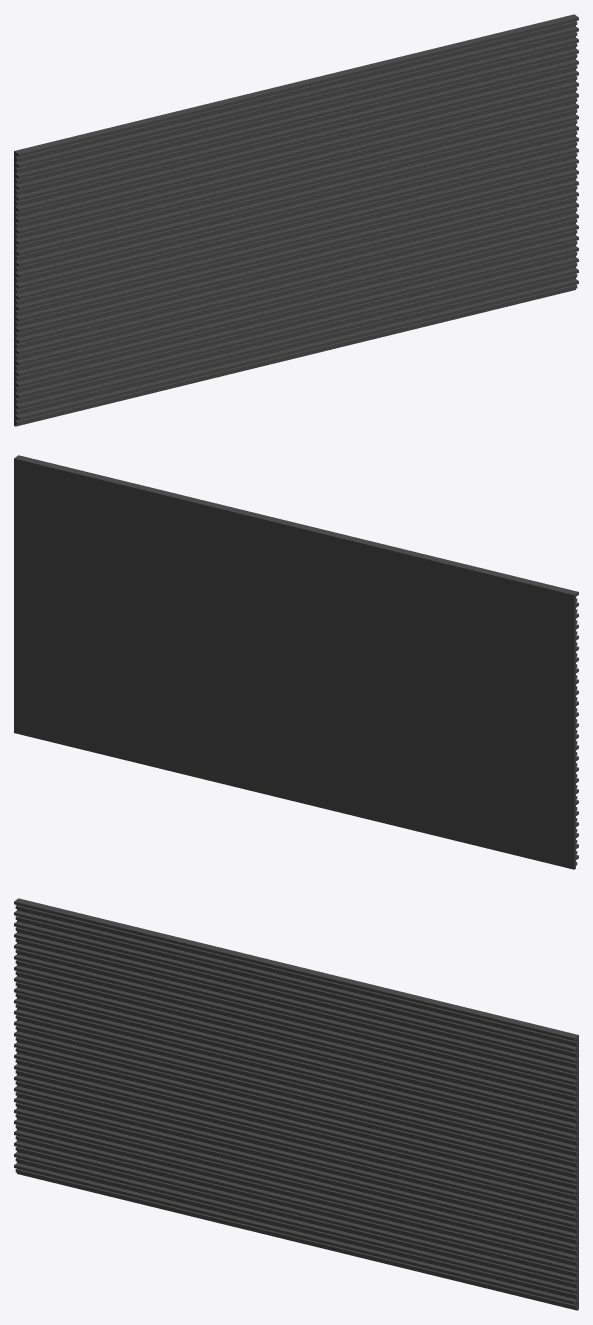
The model's file is swall_0_lev1_lev3.glb.
3 renders of one model, top to bottom at view 1: azimuth 30°, elevation 25°; view 2: azimuth 150°, elevation 25°; view 3: azimuth 330°, elevation 25°, orthographic.
Parts seen in each view (by area): view 1: swall_0_lev1_lev3; view 2: swall_0_lev1_lev3; view 3: swall_0_lev1_lev3.
Boxes of the visible parts, bbox=[...] form: swall_0_lev1_lev3: bbox=[14, 14, 578, 426]; swall_0_lev1_lev3: bbox=[14, 455, 578, 869]; swall_0_lev1_lev3: bbox=[14, 898, 578, 1310].
Size of the model in its own units: 9.52 by 4.46 by 0.1337.
1 material, 1 textured.
